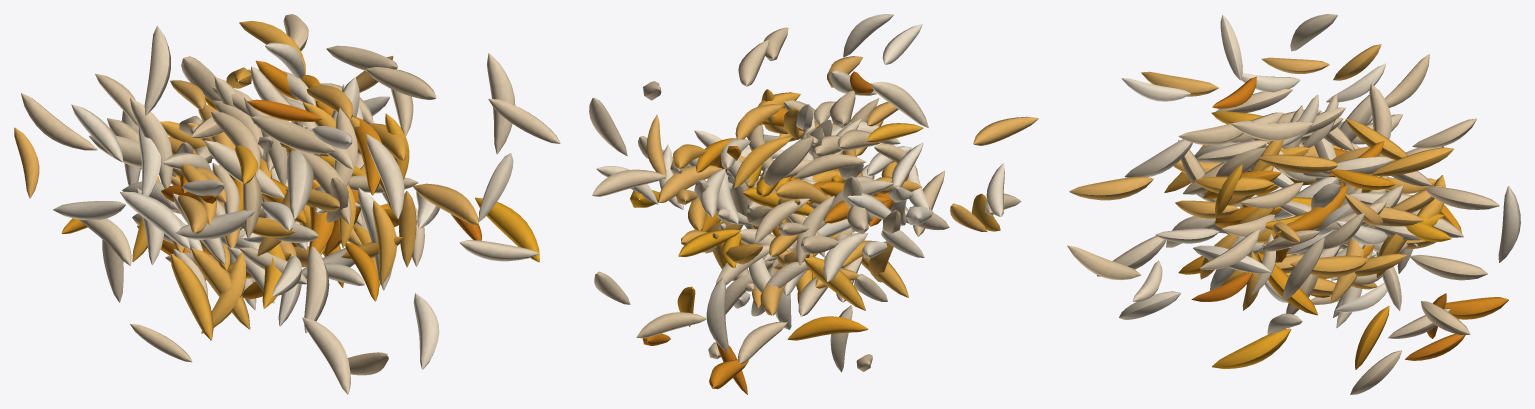
Rendered from basmati-rice-cluster.glb.
The picture shows the model from 3 angles, left to right: view 1: azimuth 30°, elevation 25°; view 2: azimuth 150°, elevation 25°; view 3: azimuth 270°, elevation 25°; orthographic projection. The views are drawn at different scales.
Visible parts, largest first — view 1: rice-grain-cloud; view 2: rice-grain-cloud; view 3: rice-grain-cloud.
Boxes of the visible parts, <box> form: rice-grain-cloud: <box>14,14,560,394</box>; rice-grain-cloud: <box>589,14,1038,394</box>; rice-grain-cloud: <box>1067,14,1520,394</box>.
Bounding box in the file's own units: 0.0928 × 0.0675 × 0.091.
1 material, 1 textured.
